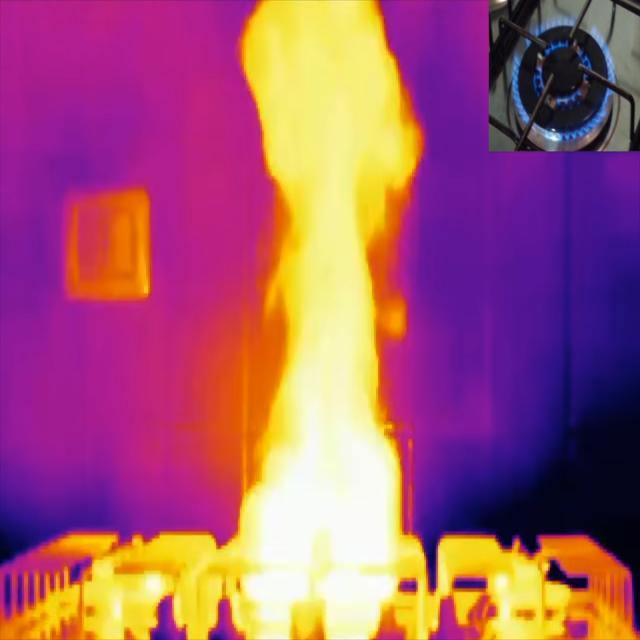fire: (239, 307, 414, 640), (108, 565, 168, 628), (484, 568, 527, 631)
